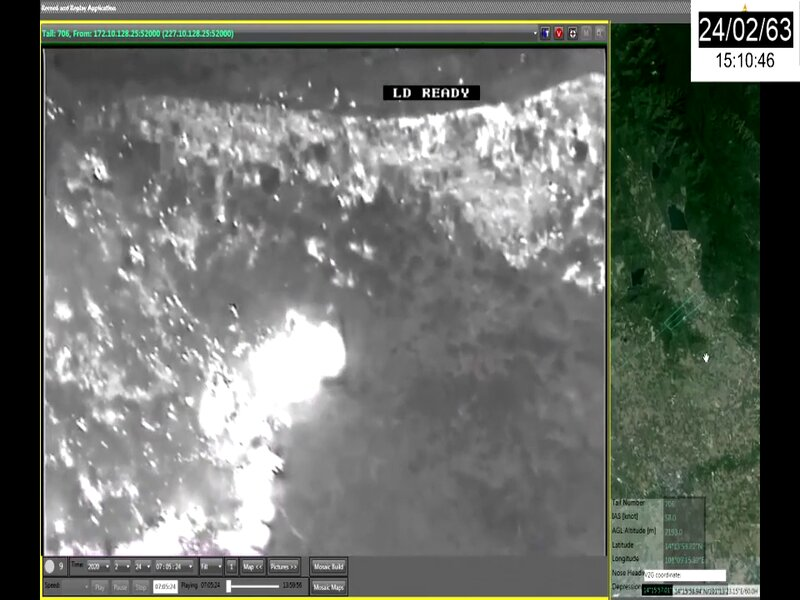Fire: (116, 290, 350, 563)
